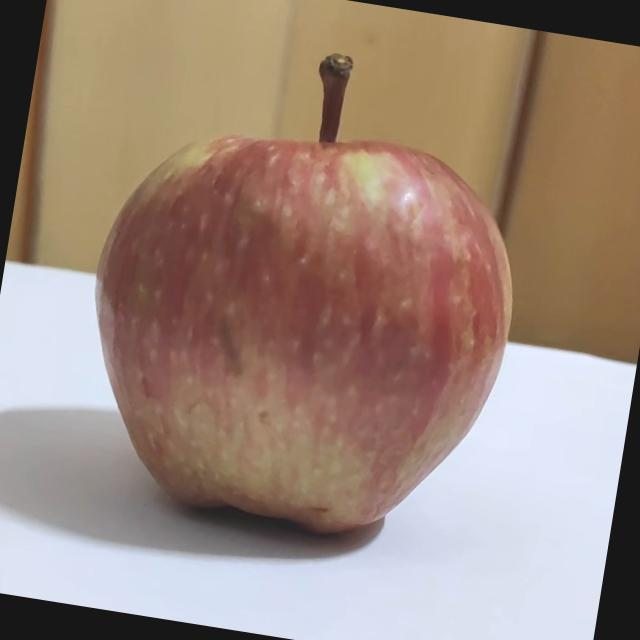apple: (65, 4, 555, 559)
